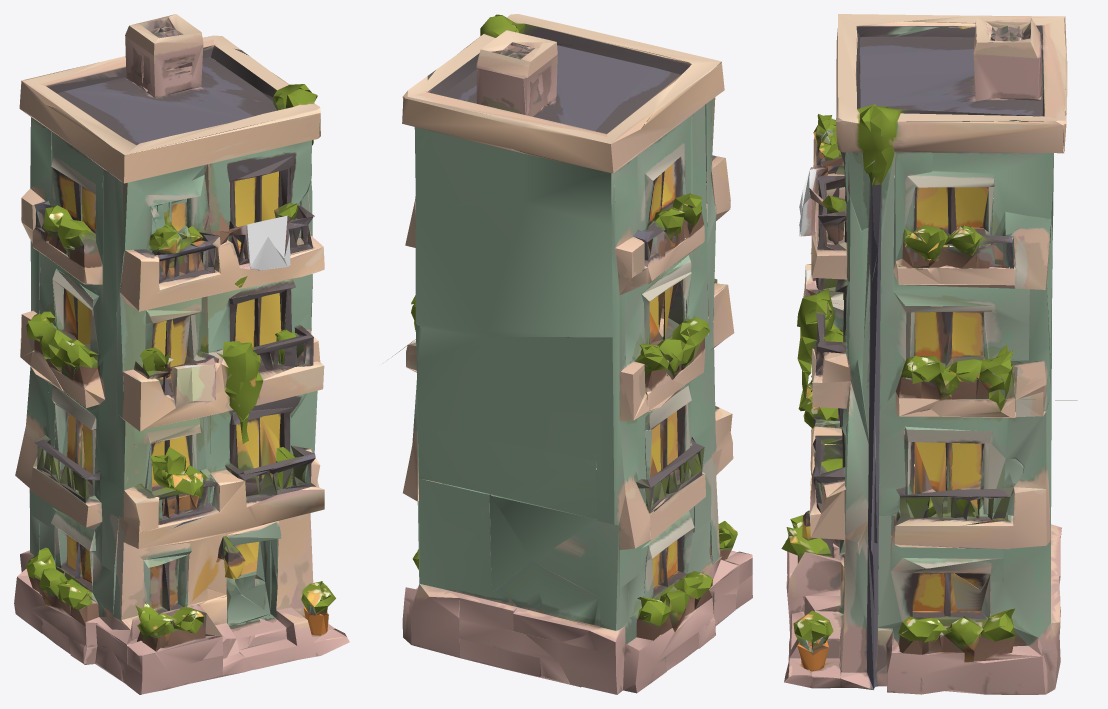
File: m11_01_apartment.glb
3 renders of one model, left to right at view 1: azimuth 30°, elevation 25°; view 2: azimuth 150°, elevation 25°; view 3: azimuth 270°, elevation 25°, orthographic. The views are drawn at different scales.
Parts seen in each view (by area): view 1: apartment; view 2: apartment; view 3: apartment.
Part boxes in pixels (box(x1,y1,x2,y2)): apartment: box(14, 14, 349, 694); apartment: box(388, 14, 752, 694); apartment: box(781, 14, 1077, 694).
Size of the model in its own units: 8.15 by 18.05 by 8.25.
Materials: 2 (2 with a texture image).
